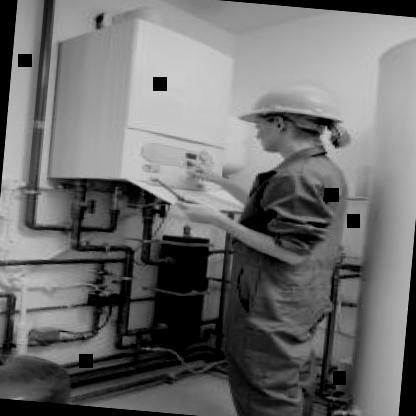helmet: (230, 65, 363, 172)
